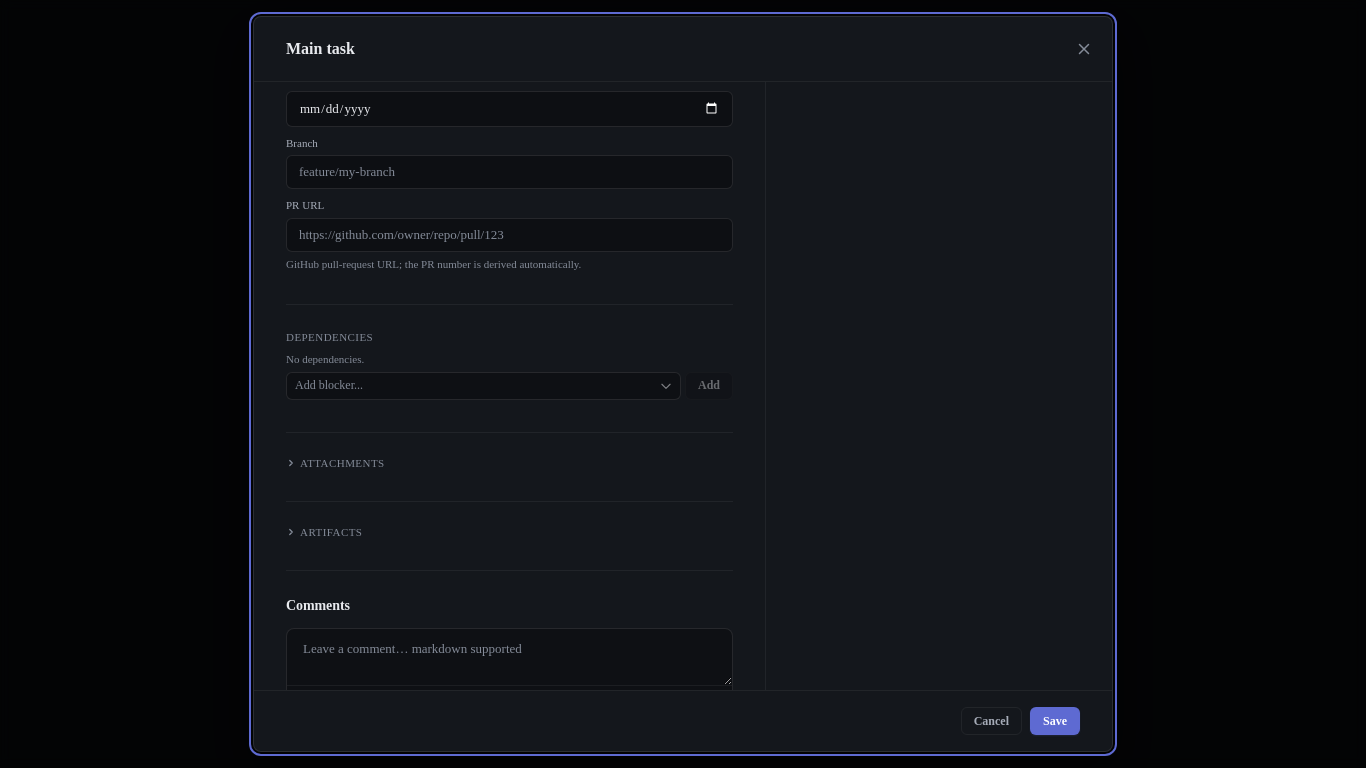
Test case: TaskDetail dependency picker › an 8-char id prefix lists exactly that task, with id prefix and status in the option
(page scrolled)
Type "8c1d0e4f" into the dropdown labelled "Add blocker" at (484, 386), box [286,372,681,400]
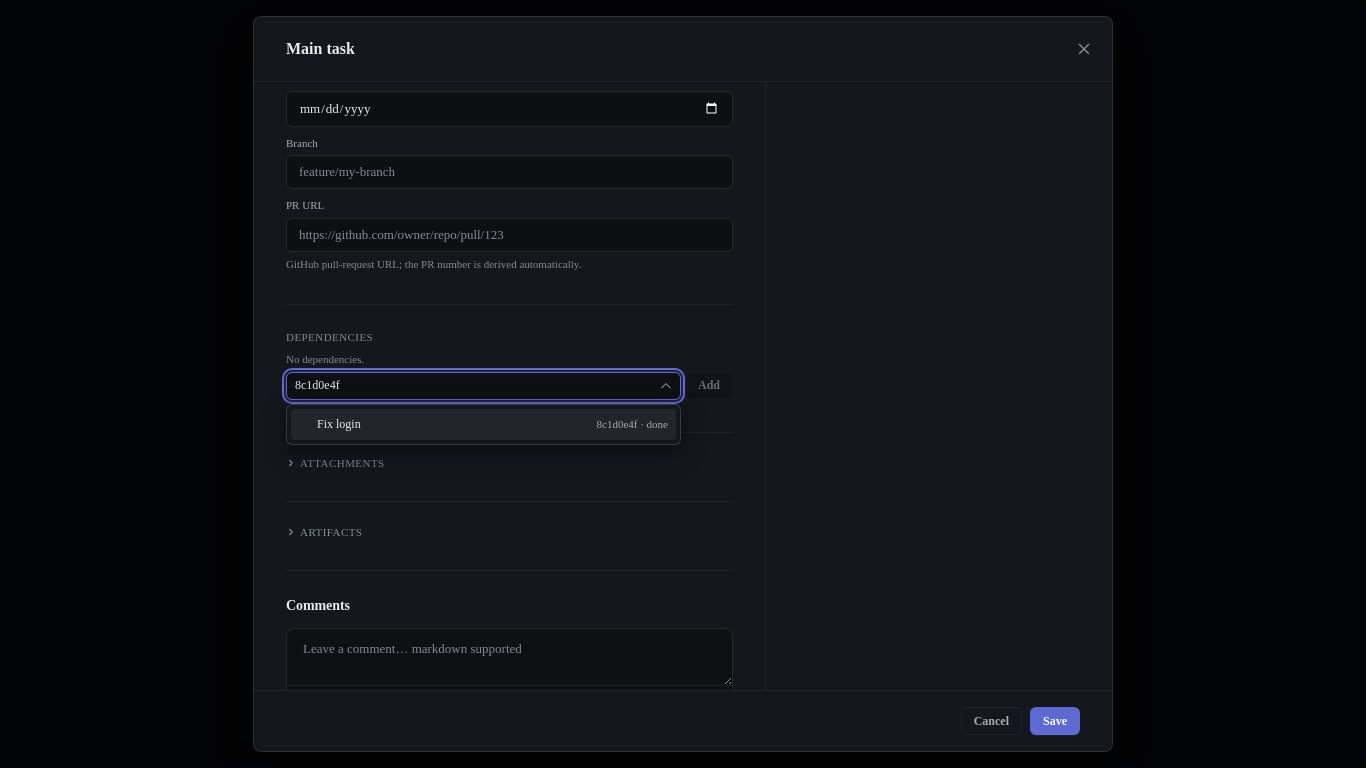
Check: the number of options is 1, box [291,409,676,440]
Check: the option shows "Fix login", box [291,409,676,440]
Check: the option shows "8c1d0e4f · done", box [291,409,676,440]
